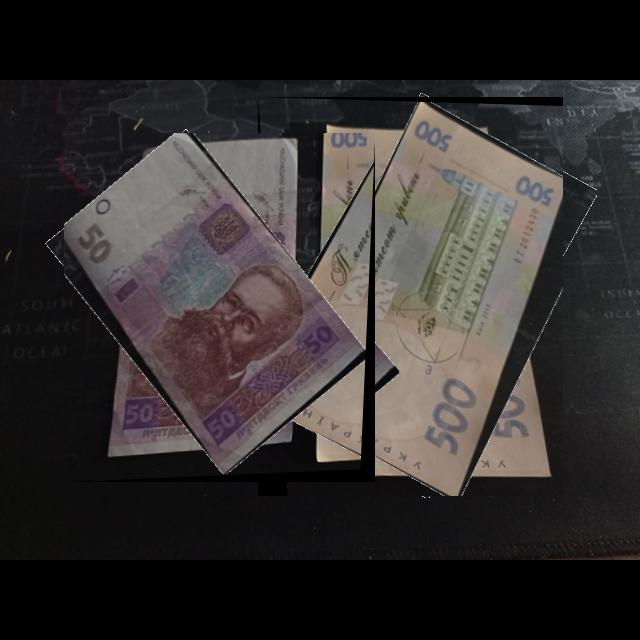500uah: (276, 102, 564, 497)
50uah: (64, 133, 368, 477)
